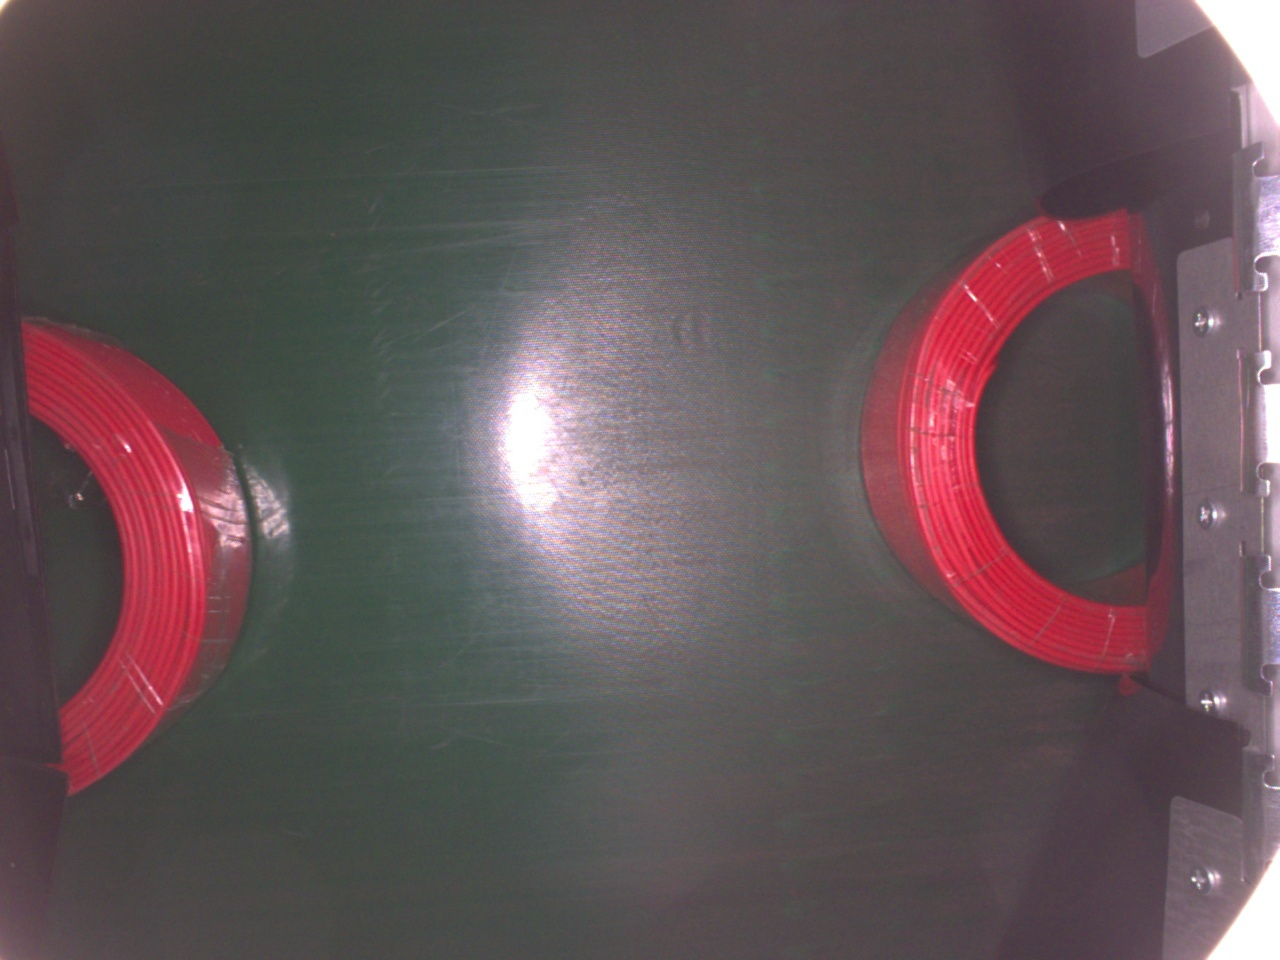red: (858, 206, 1161, 679), (15, 310, 258, 799)
